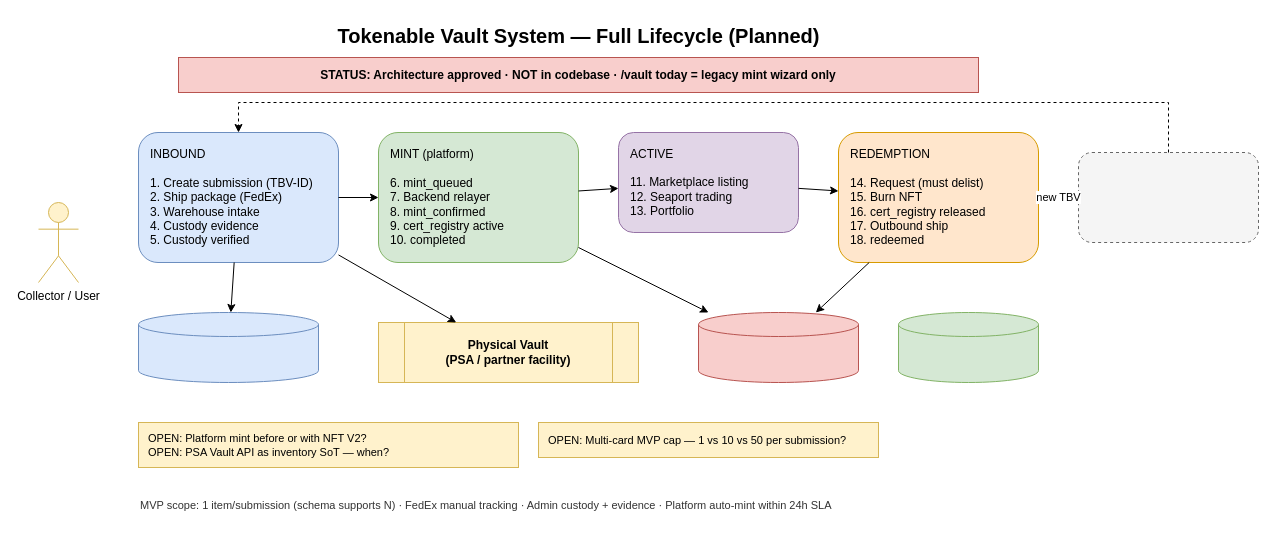
Some shapes in this 1276 by 539 pixel diagram are drawn without their labels. The shapes that lost their labels are listed below. From the top down, each one's box as (x1, y1, x2, y2) in pixels, then its label:
(1078, 152, 1258, 242): RE-VAULT (optional) New TBV submission same cert allowed after released
(138, 312, 318, 382): Private Object Storage slab photos · packaging · exit bundle
(698, 312, 858, 382): Blockchain NFT · Seaport · burn
(898, 312, 1038, 382): Tokenable DB workflow SoT
